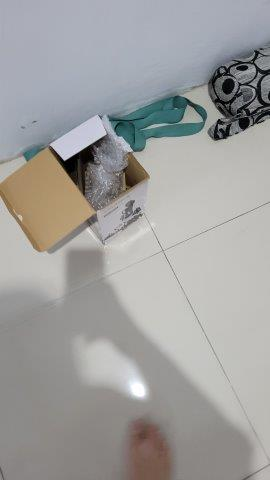kardus: (1, 115, 150, 253)
